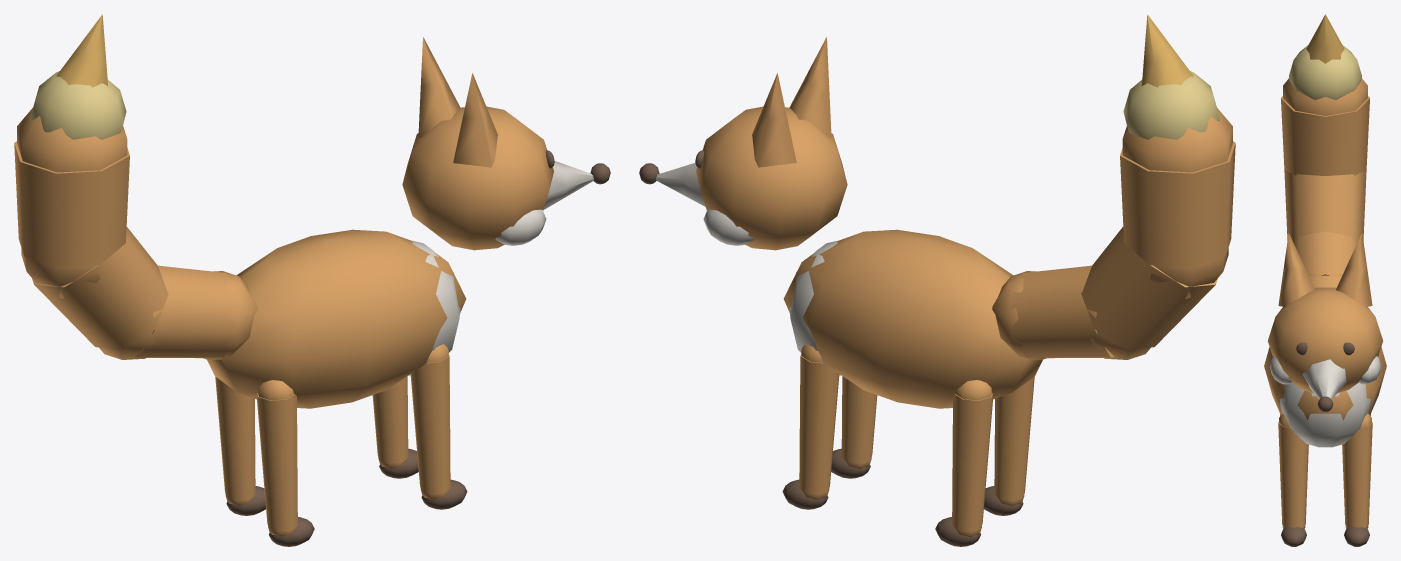
The model's file is ally_0_fox.glb.
The picture shows the model from 3 angles, left to right: view 1: azimuth 30°, elevation 25°; view 2: azimuth 150°, elevation 25°; view 3: azimuth 270°, elevation 25°; orthographic projection. The views are drawn at different scales.
Parts seen in each view (by area): view 1: Tail, Torso, Head, LegR, LegL; view 2: Tail, Torso, Head, LegL, LegR; view 3: Tail, Head, Torso, LegL, LegR.
Boxes of the visible parts, x1,y1,x2,y2 form: Tail: [14, 14, 257, 359]; Torso: [207, 229, 466, 408]; Head: [402, 37, 610, 250]; LegR: [256, 344, 467, 546]; LegL: [215, 376, 418, 515]; Tail: [992, 14, 1235, 359]; Torso: [783, 229, 1042, 408]; Head: [639, 37, 847, 250]; LegL: [782, 344, 993, 546]; LegR: [831, 376, 1034, 515]; Tail: [1281, 14, 1369, 287]; Head: [1268, 232, 1382, 411]; Torso: [1264, 347, 1386, 447]; LegL: [1342, 413, 1372, 546]; LegR: [1278, 413, 1308, 546].
Bounding box in the file's own units: 1.93 × 1.74 × 0.468.
